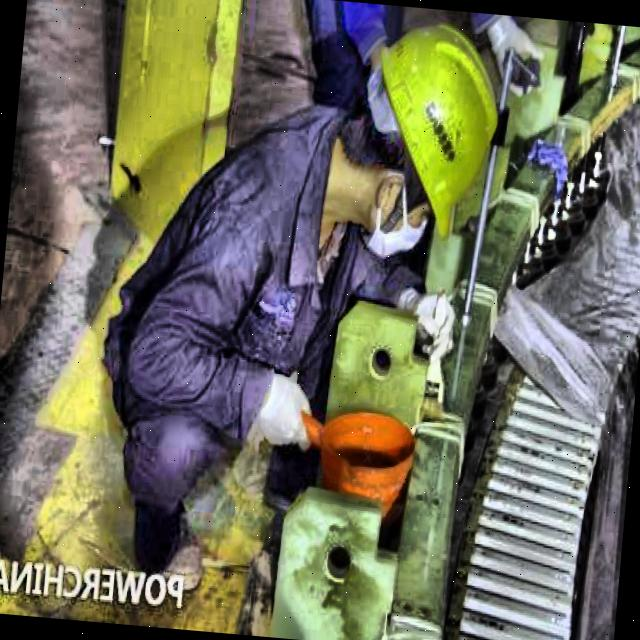helmet: (332, 3, 524, 268)
